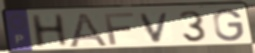3: (178, 10, 209, 43)
A: (67, 11, 111, 49)
F: (102, 11, 137, 46)
G: (211, 8, 246, 43)
H: (28, 13, 71, 50)
V: (138, 11, 172, 44)
